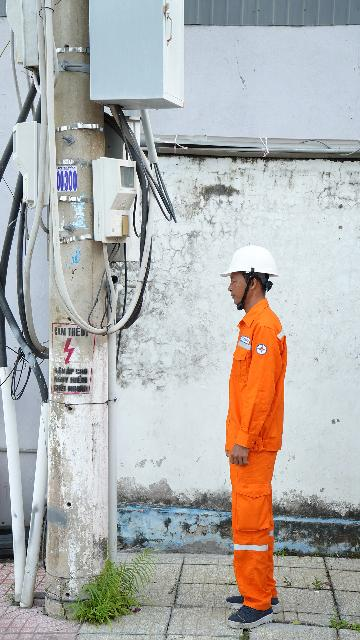helmet: (215, 231, 288, 283)
shoes: (217, 601, 297, 636), (229, 578, 293, 610)
